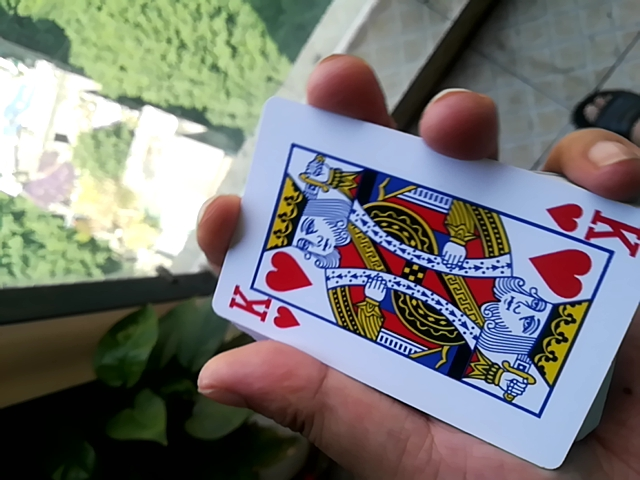hx k: (203, 96, 636, 463)
